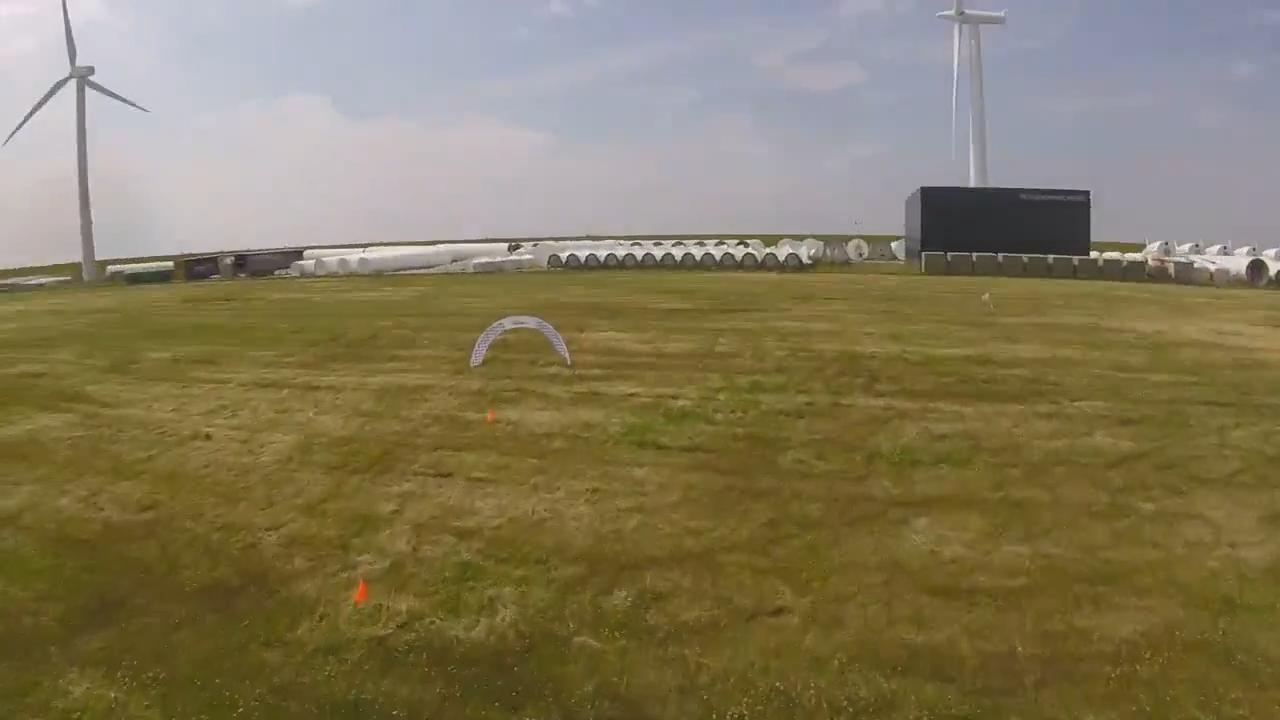gate: (468, 314, 572, 373)
